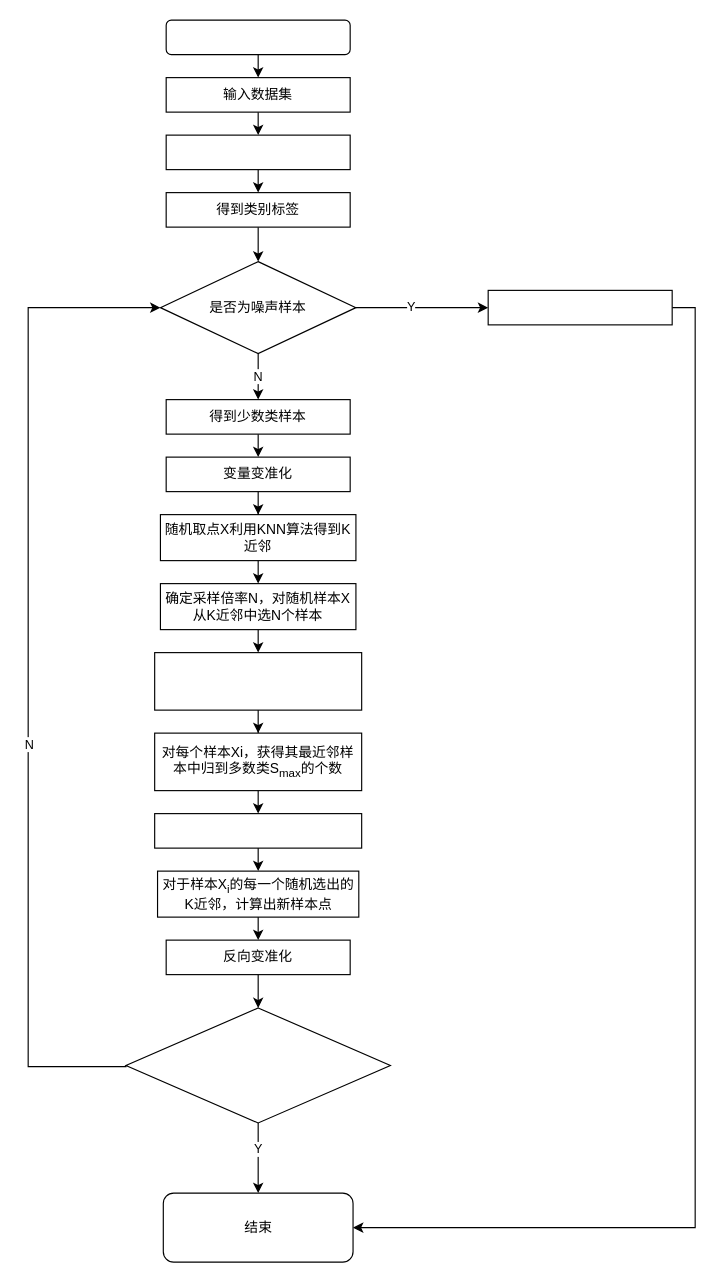
Some shapes in this 725 by 1282 pixel diagram are drawn without their labels. The shapes that lost their labels are listed below. From the top down, each one's box as (x1, y1, x2, y2) in pixels, then its label:
(165, 19, 350, 55): 开始
(165, 134, 350, 170): K-means聚类分析
(487, 289, 672, 325): 丢弃数据
(154, 651, 362, 710): 每个少数类中的样本X i ，确定其近邻样本的集合S min-NN
(154, 812, 362, 848): 选出满足条件的X i
(125, 1007, 390, 1123): 少数类和多数类样本是否接近1:1
